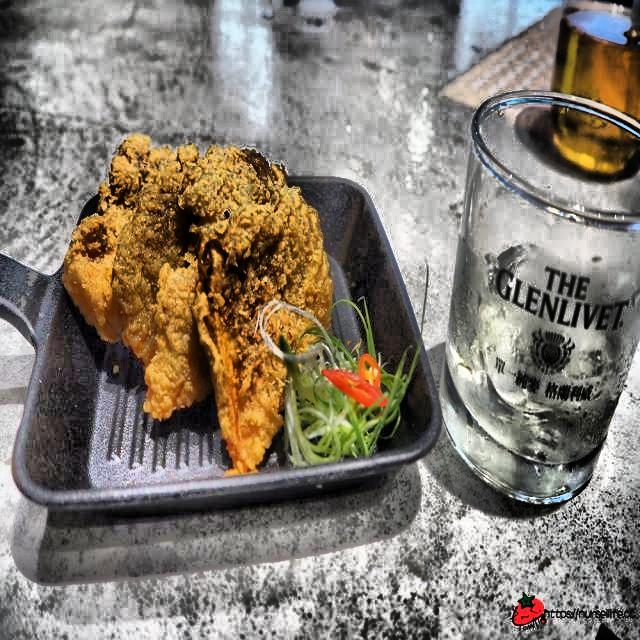Food: (64, 124, 327, 468)
